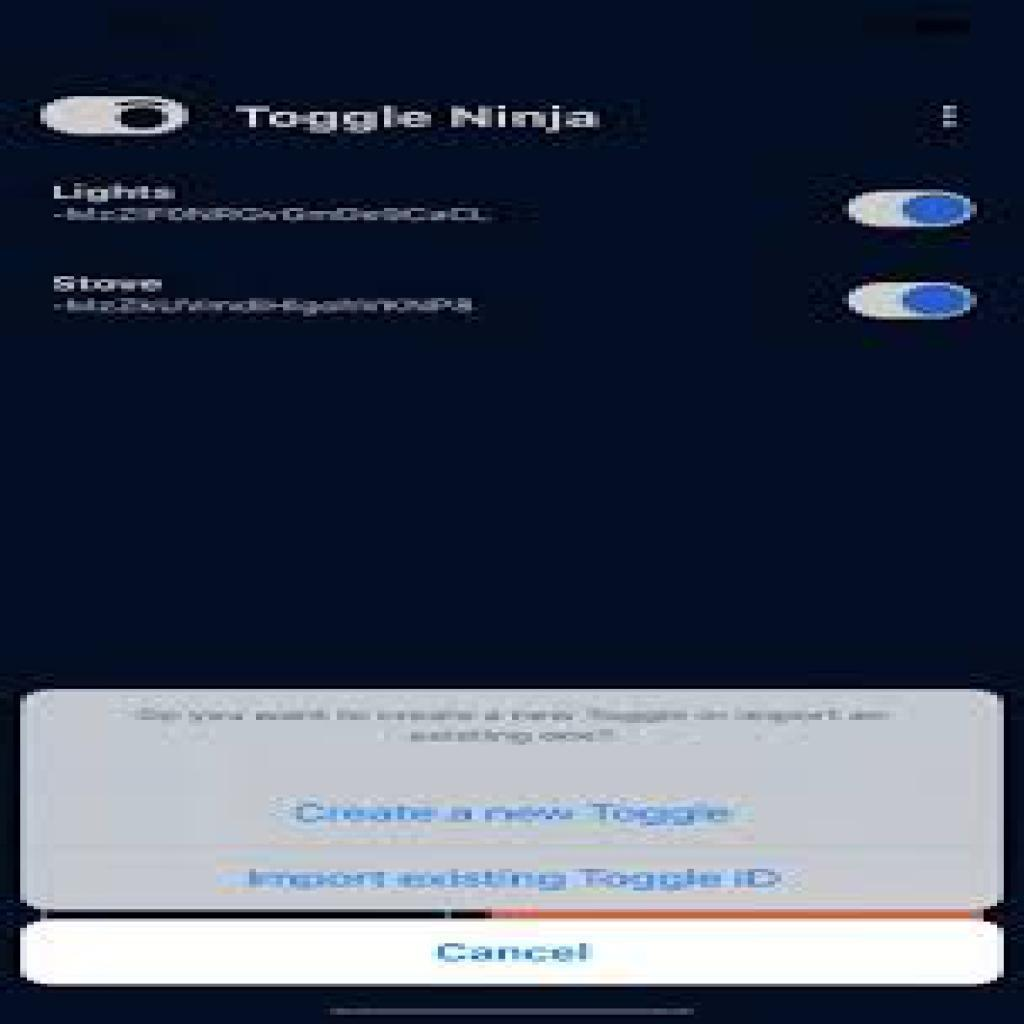icon: (938, 98, 962, 140)
switch: (839, 182, 980, 235), (38, 94, 202, 137), (846, 278, 985, 323)
